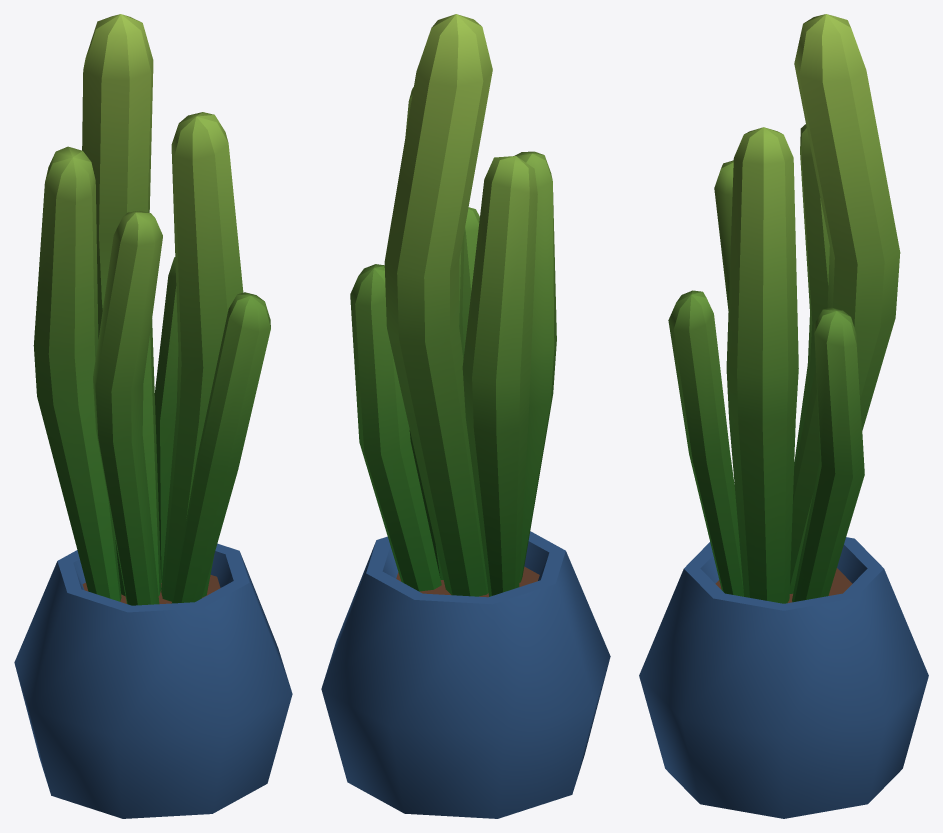
The model's file is SM_Props_Plant_04.fbx.
3 views of the same model, side by side, from view 1: azimuth 30°, elevation 25°; view 2: azimuth 150°, elevation 25°; view 3: azimuth 270°, elevation 25° (orthographic). The views are drawn at different scales.
Parts seen in each view (by area): view 1: SM_Props_Plant_04; view 2: SM_Props_Plant_04; view 3: SM_Props_Plant_04.
Boxes of the visible parts, x1,y1,x2,y2 form: SM_Props_Plant_04: (14, 14, 292, 818); SM_Props_Plant_04: (321, 14, 610, 818); SM_Props_Plant_04: (639, 14, 928, 818).
Bounding box in the file's own units: 0.4544 × 1.3 × 0.4544.
